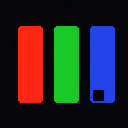1 square: (93, 90, 103, 100)
